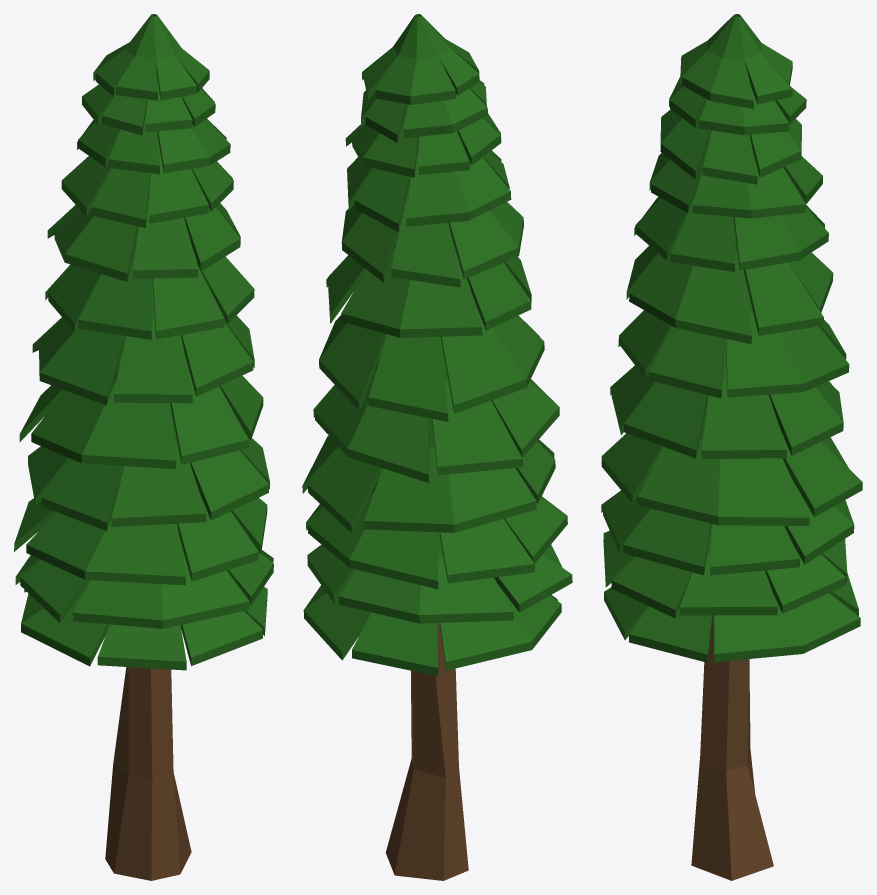
Rendered from pine_tree_3.fbx.
3 views of the same model, side by side, from view 1: azimuth 30°, elevation 25°; view 2: azimuth 150°, elevation 25°; view 3: azimuth 270°, elevation 25° (orthographic).
Visible parts, largest first — view 1: Circle.010; view 2: Circle.010; view 3: Circle.010.
Part boxes in pixels (box(x1,y1,x2,y2)): Circle.010: box(14, 14, 273, 880); Circle.010: box(302, 14, 572, 880); Circle.010: box(601, 14, 862, 880).
Size of the model in its own units: 168 by 594 by 166.
Materials: 2 (1 with a texture image).
